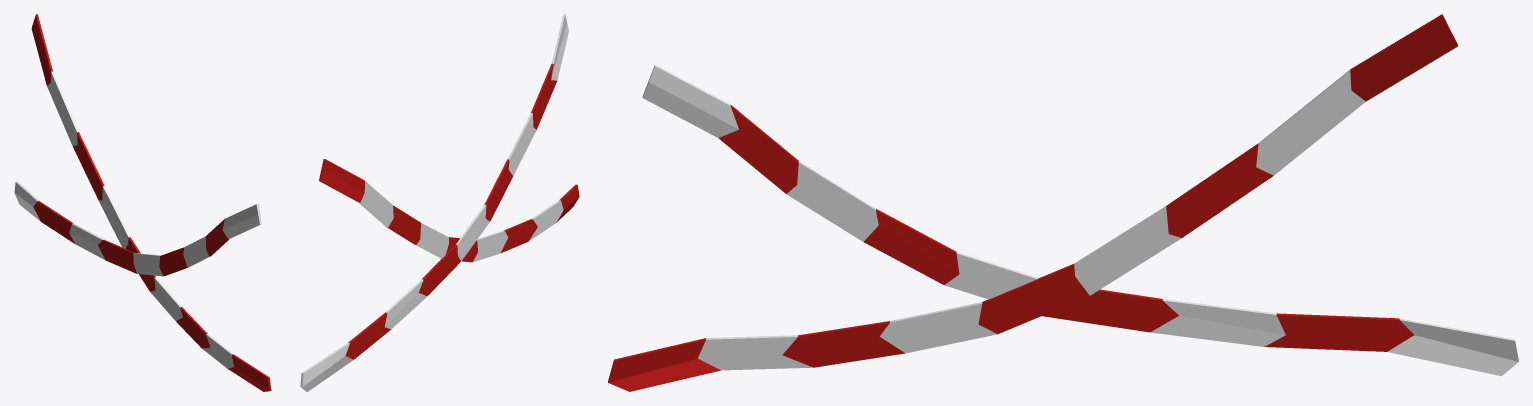
The model's file is Tape.fbx.
The picture shows the model from 3 angles, left to right: view 1: azimuth 30°, elevation 25°; view 2: azimuth 150°, elevation 25°; view 3: azimuth 270°, elevation 25°; orthographic projection. The views are drawn at different scales.
Parts seen in each view (by area): view 1: Tape; view 2: Tape; view 3: Tape.
Part boxes in pixels (bbox=[...]): Tape: bbox=[14, 14, 271, 391]; Tape: bbox=[300, 14, 579, 391]; Tape: bbox=[608, 14, 1518, 391].
Size of the model in its own units: 0.053 by 1.7 by 0.7772.
